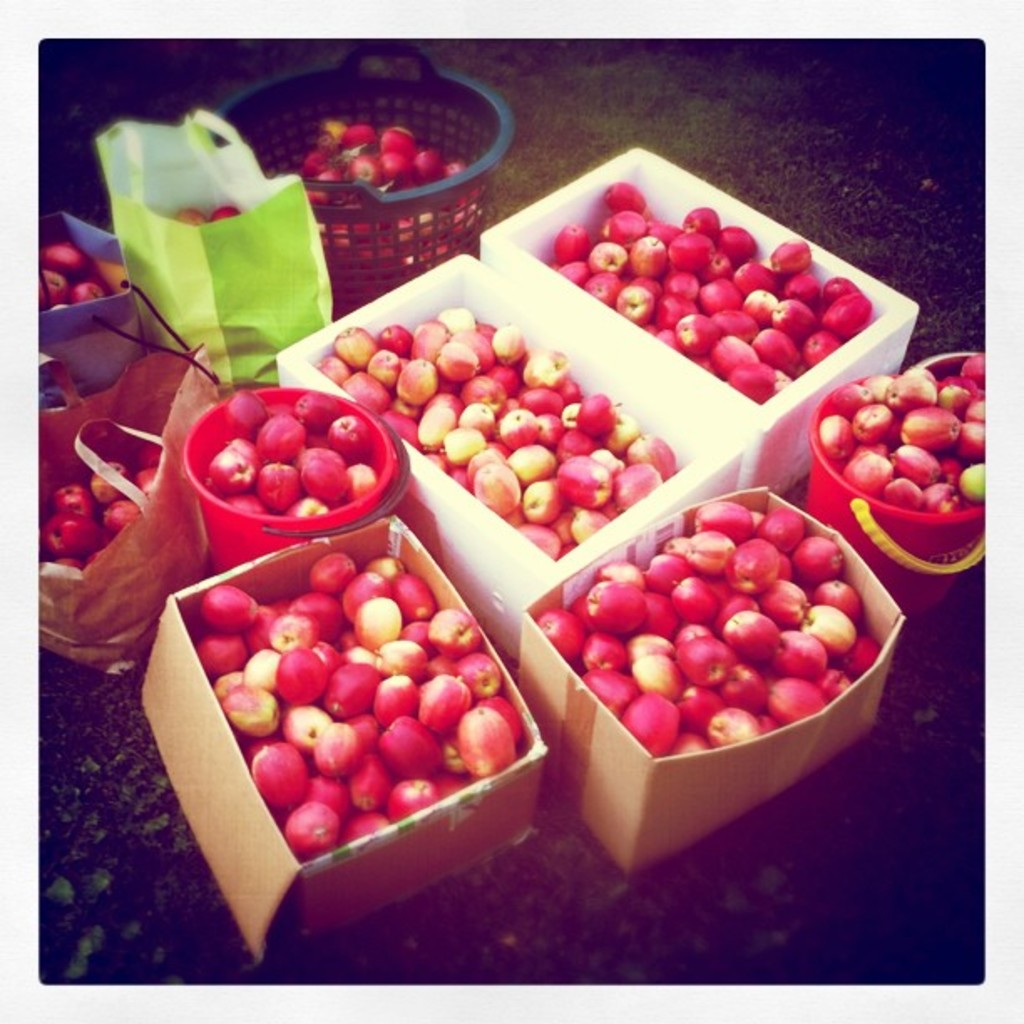Apple: (194, 555, 520, 861), (533, 496, 883, 759), (314, 312, 680, 557), (545, 180, 871, 399), (291, 122, 480, 267), (819, 349, 987, 512), (200, 388, 376, 518), (41, 440, 160, 568), (286, 801, 339, 861), (41, 242, 88, 276), (31, 264, 65, 307), (70, 276, 110, 304), (172, 205, 205, 225), (210, 199, 242, 217)
